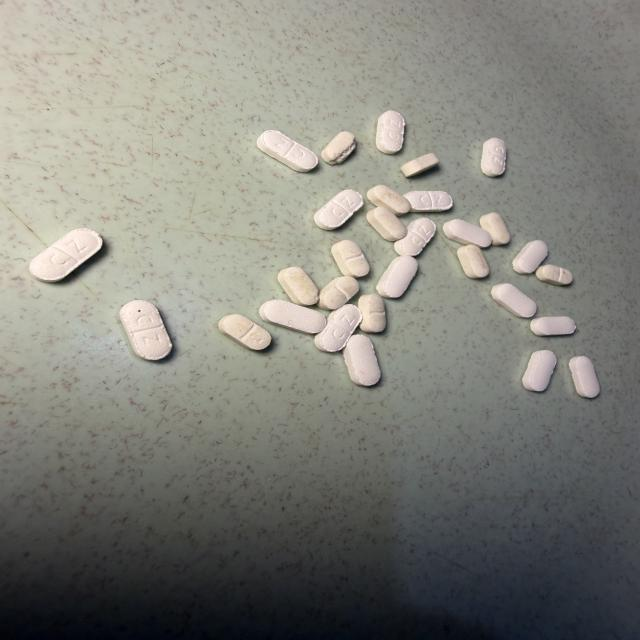pill: (29, 229, 102, 282), (120, 300, 172, 360), (257, 130, 318, 172), (259, 300, 326, 333), (315, 305, 362, 352), (314, 190, 363, 230), (344, 335, 380, 386), (219, 315, 271, 350), (377, 257, 418, 298), (395, 218, 436, 256), (278, 267, 318, 305), (491, 284, 536, 317), (443, 219, 492, 247), (332, 240, 369, 277), (367, 207, 407, 241), (523, 350, 556, 391), (367, 185, 411, 215), (318, 277, 359, 309), (569, 356, 599, 398), (513, 240, 548, 274), (376, 111, 404, 153), (358, 294, 386, 332), (322, 132, 355, 164), (457, 245, 489, 278), (404, 191, 452, 212), (481, 138, 506, 177), (480, 213, 510, 245), (401, 154, 438, 177), (531, 317, 575, 336), (536, 265, 572, 285)
